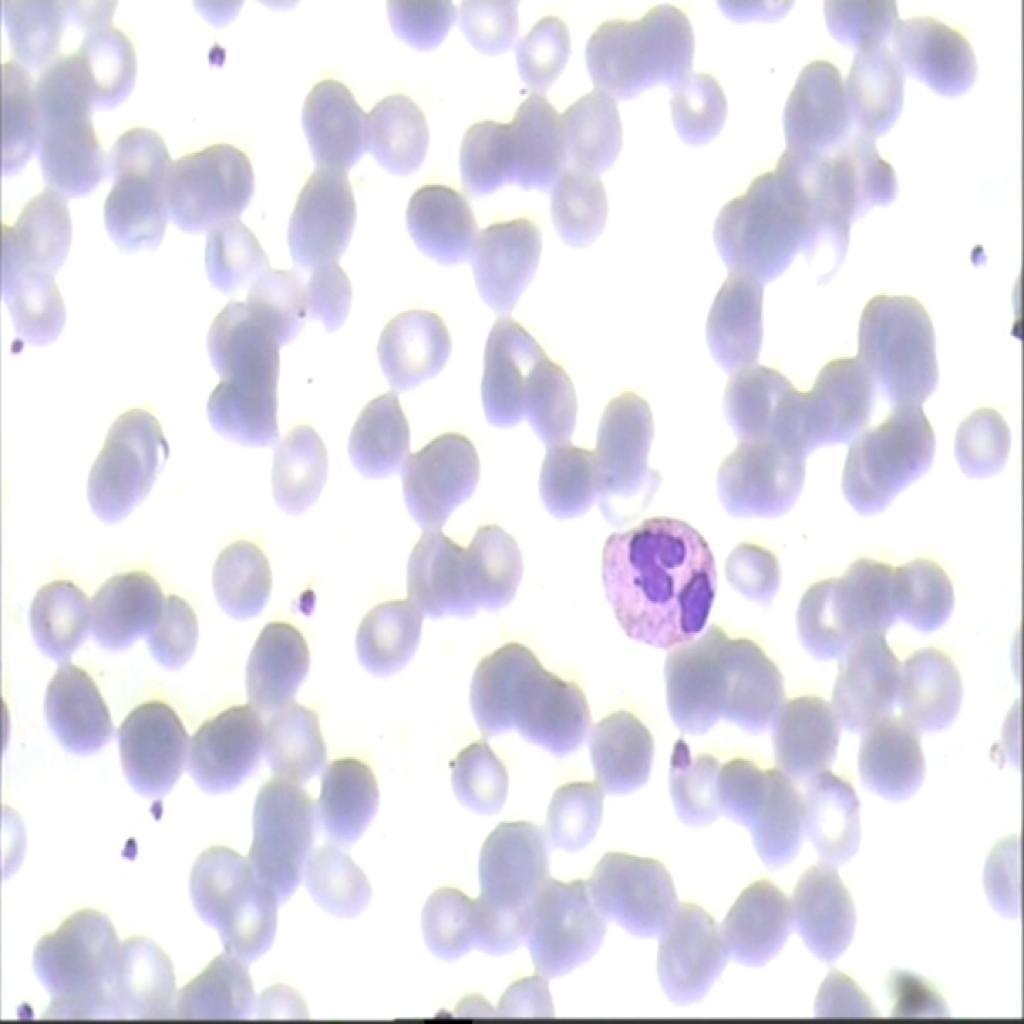Neutrofil: (592, 487, 716, 665)
Platelet: (101, 828, 146, 878), (191, 30, 233, 70), (665, 731, 697, 782), (136, 779, 166, 825), (1, 980, 33, 1022), (286, 580, 318, 622), (957, 231, 990, 267), (2, 330, 28, 370)
